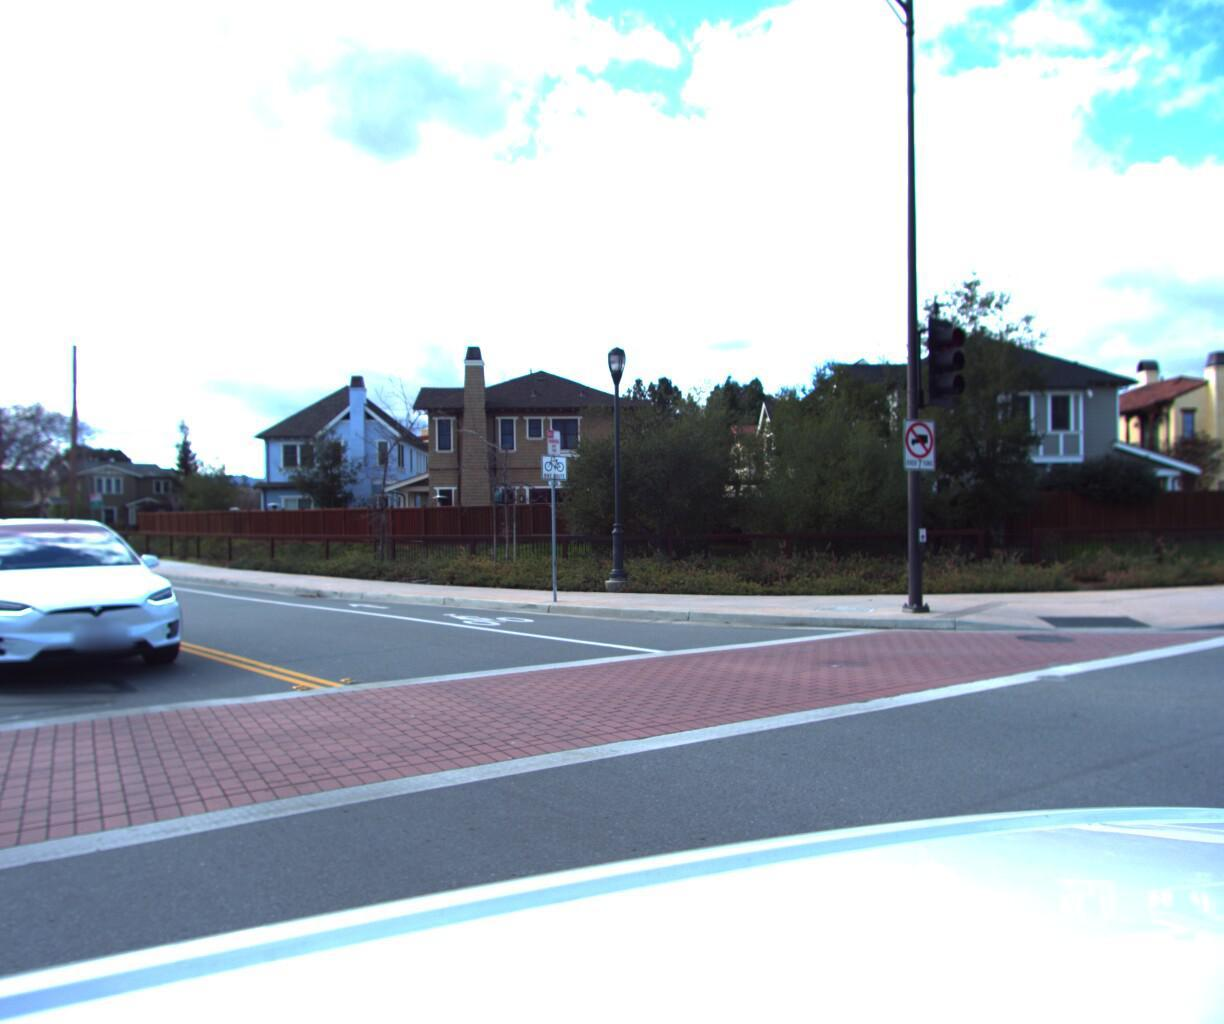car: (0, 490, 220, 708), (0, 526, 32, 624)
